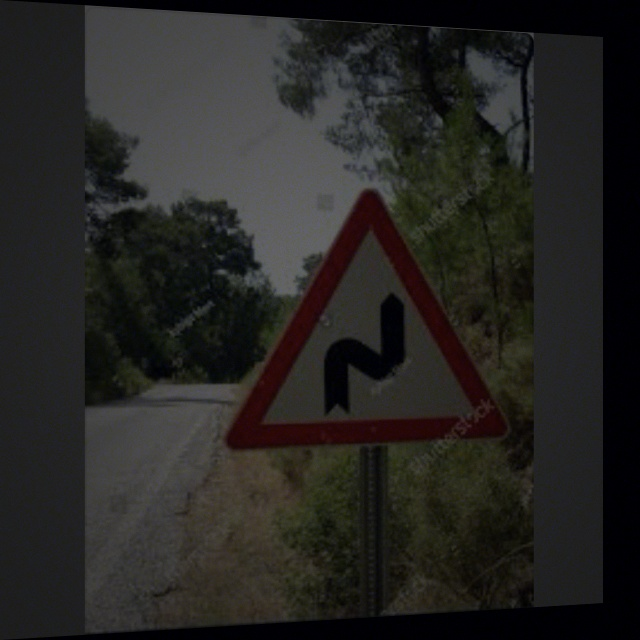Right_Reverse_Bend: (253, 205, 499, 442)
